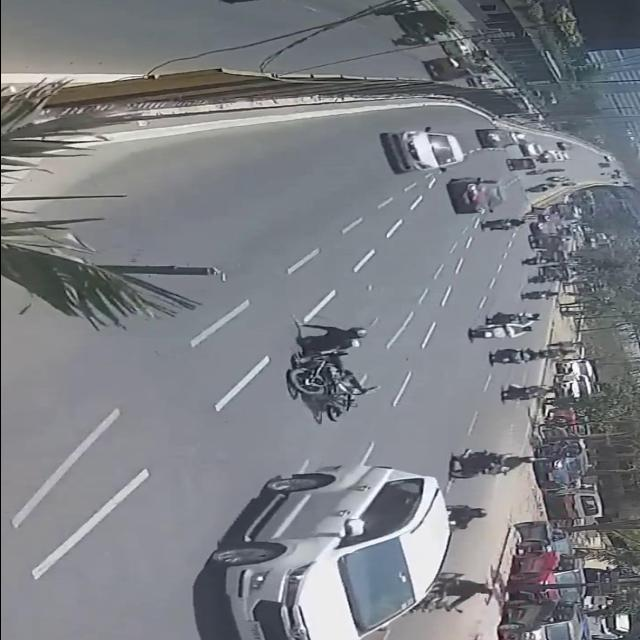accident: (278, 315, 378, 428)
non_accident: (496, 514, 587, 640), (509, 210, 595, 271), (536, 404, 596, 487), (498, 133, 586, 173), (545, 356, 609, 404)
